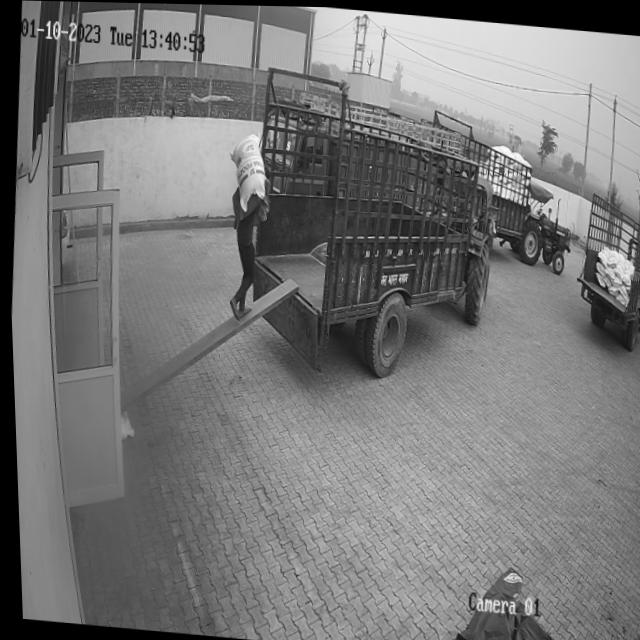sack: (224, 127, 268, 214)
